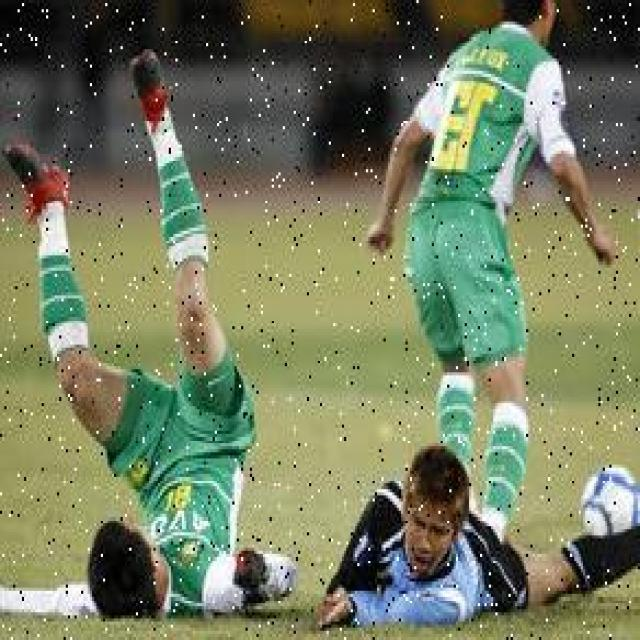fall: (33, 262, 261, 616), (324, 446, 628, 618)
